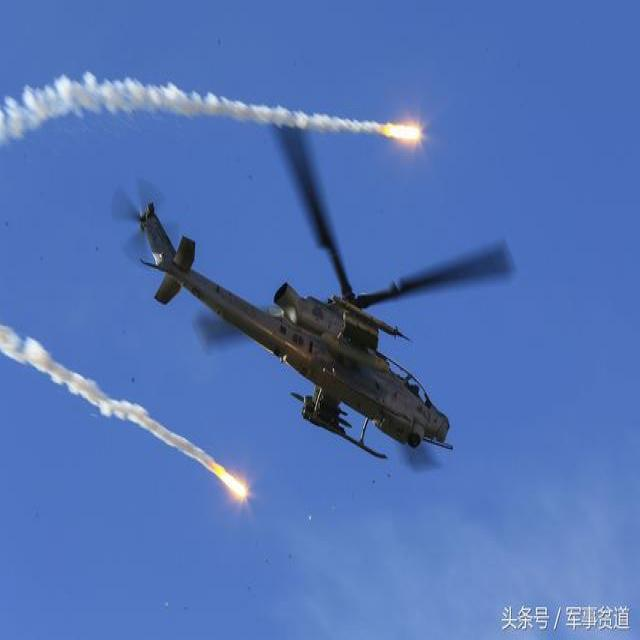MIL_HELO: (129, 98, 521, 463)
